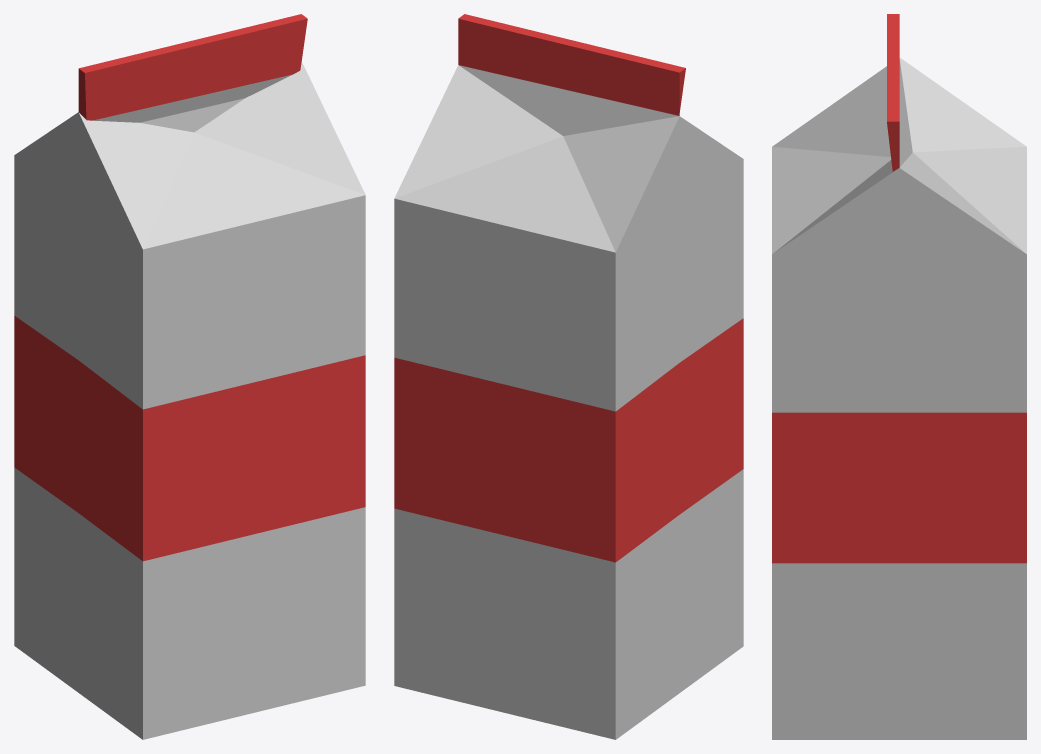
File: Leche.fbx
3 views of the same model, side by side, from view 1: azimuth 30°, elevation 25°; view 2: azimuth 150°, elevation 25°; view 3: azimuth 270°, elevation 25° (orthographic).
Visible parts, largest first — view 1: Milk; view 2: Milk; view 3: Milk.
Boxes of the visible parts, <box> form: Milk: <box>14,14,365,739</box>; Milk: <box>394,14,743,739</box>; Milk: <box>772,14,1026,739</box>.
Bounding box in the file's own units: 1451 × 3885 × 1451.
